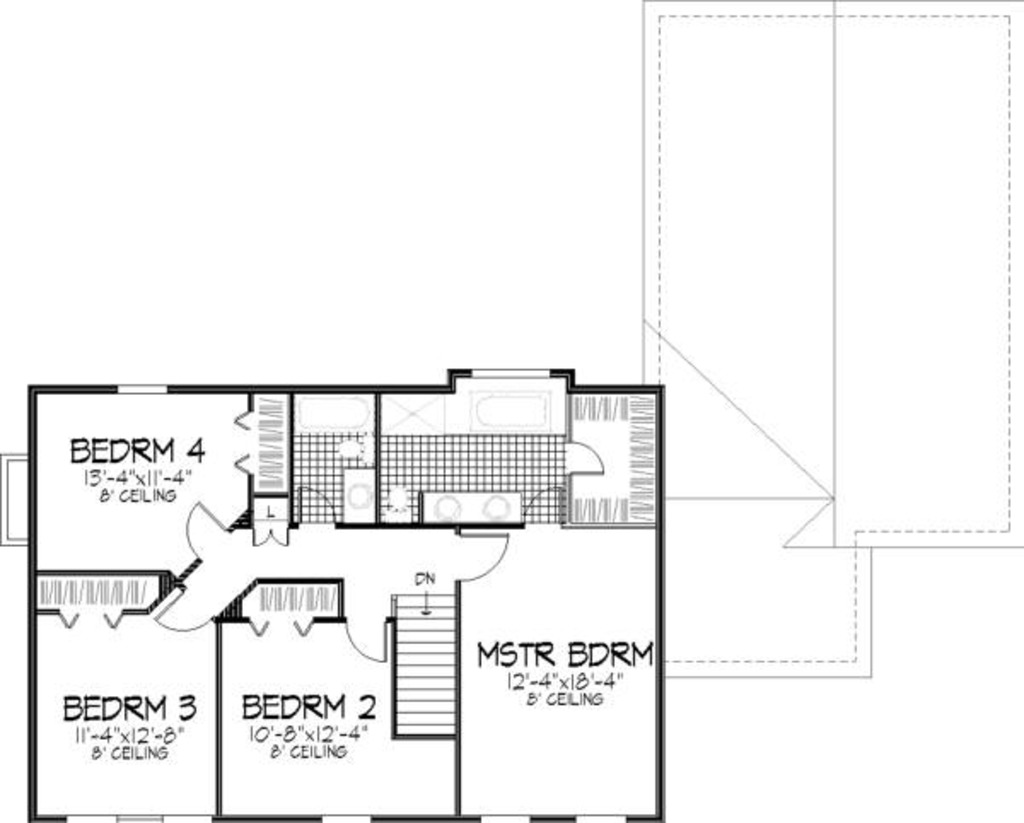door: (176, 496, 231, 559), (450, 528, 510, 577), (338, 618, 390, 665), (153, 593, 210, 633), (565, 433, 611, 482), (248, 522, 295, 549)
small_sink: (418, 489, 520, 524), (341, 466, 377, 525)
stairs: (391, 571, 463, 745)
tub: (292, 393, 377, 437), (471, 389, 555, 433)
windows: (459, 365, 555, 382), (113, 380, 183, 399)
